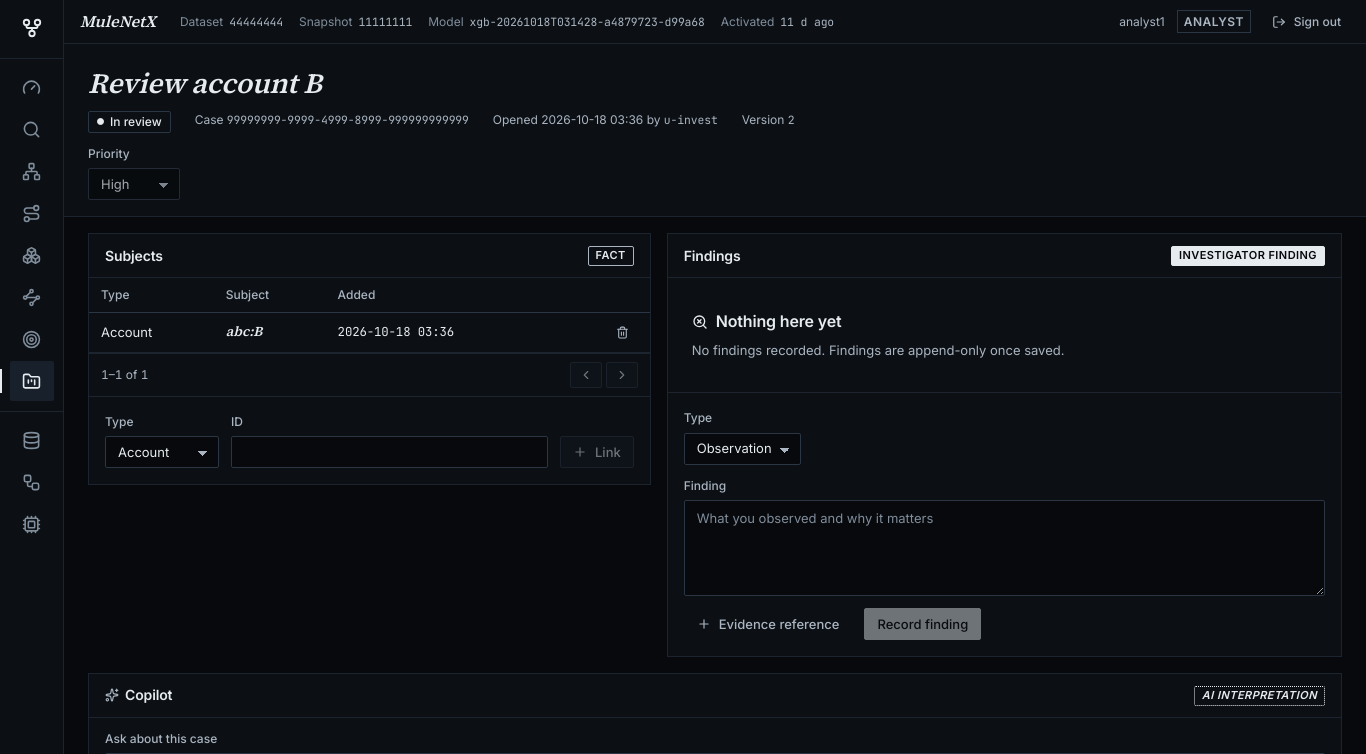
Test: cases (T28) › offers an analyst who is not a participant no transitions, and surfaces a server 403
In the field labelled "ID": [390, 452] box [231, 436, 548, 468], type "abc:C"
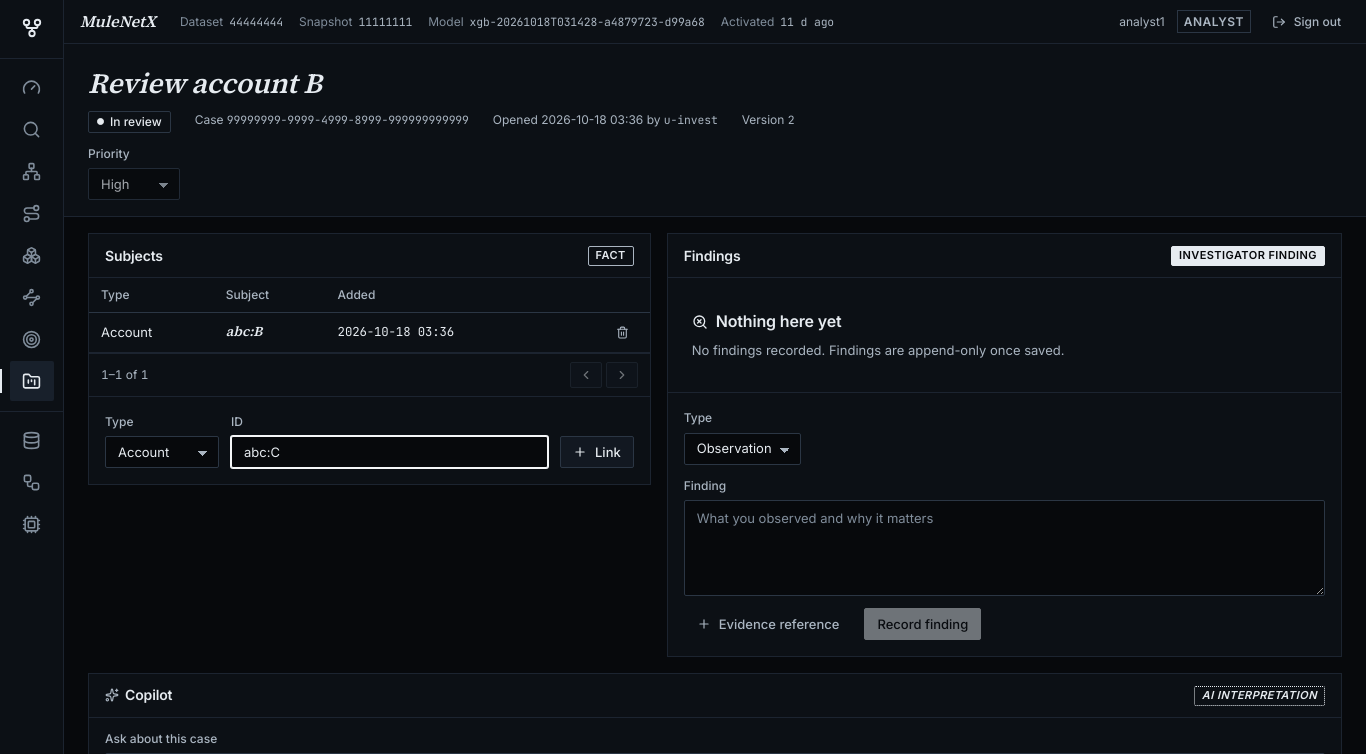
Click the button "Link": [597, 452] box [560, 436, 634, 468]
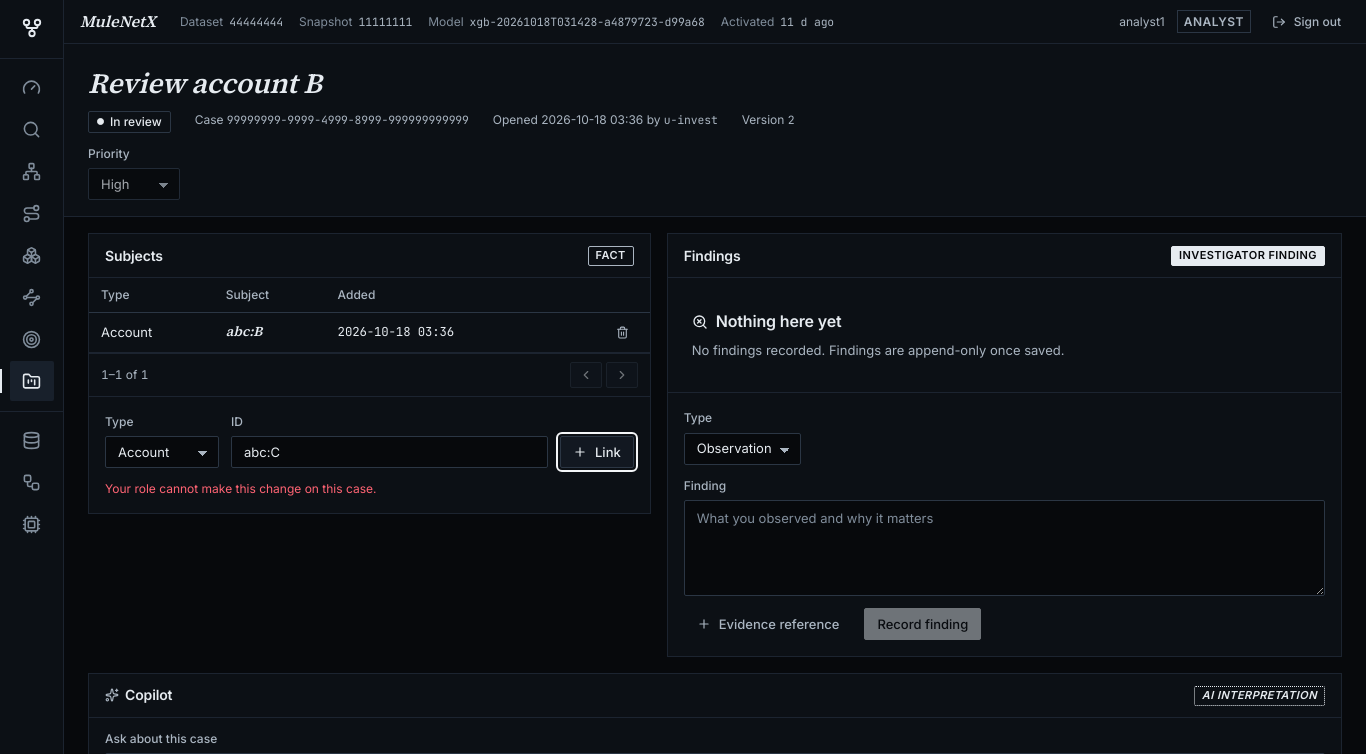
Expected: the message "Your role cannot make this change on this case." is shown, [105, 481, 376, 496]
